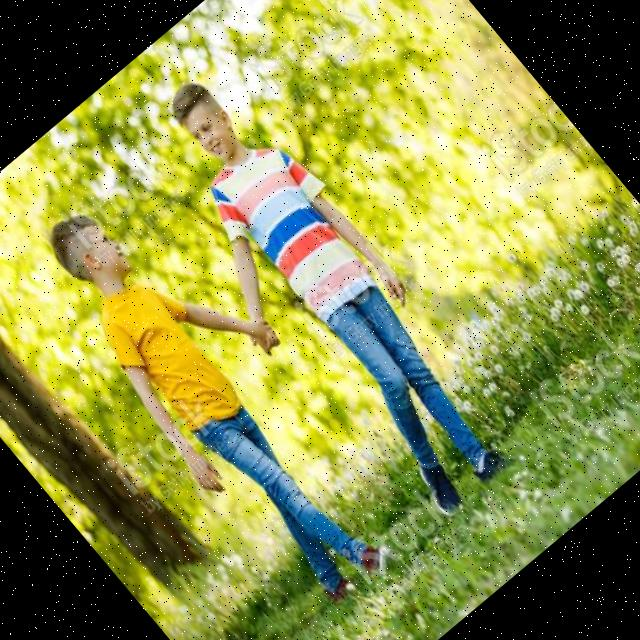Person: (98, 54, 540, 538), (14, 162, 436, 624)
